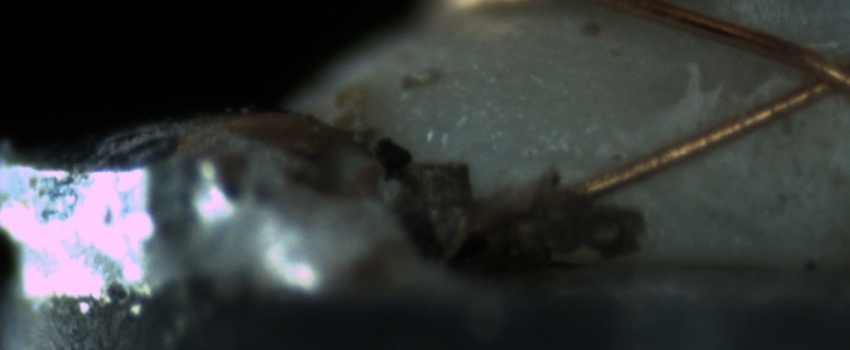CL: (769, 38, 848, 109)
